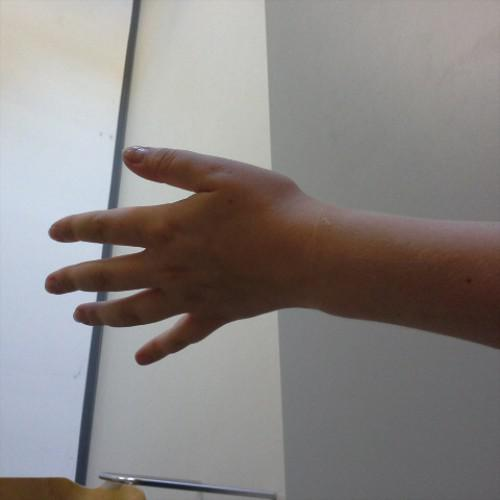paper: (40, 132, 324, 370)
